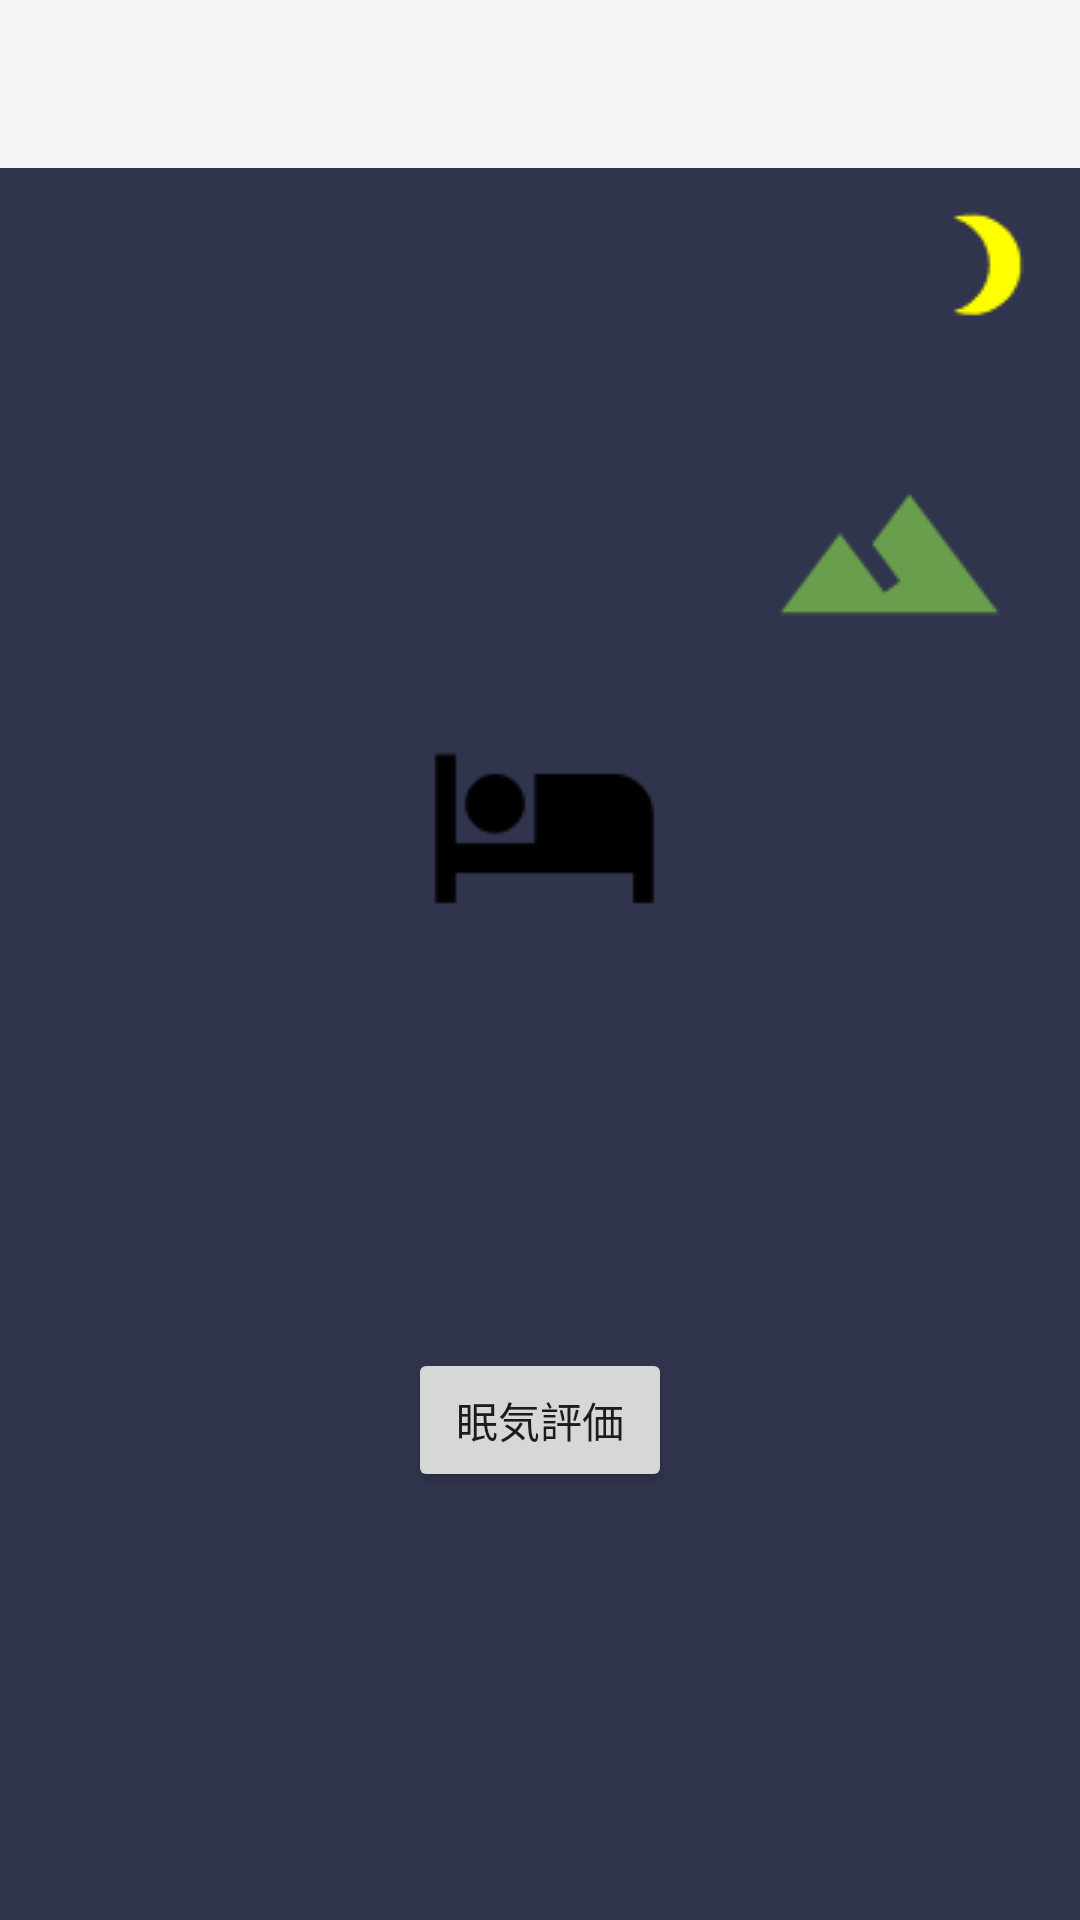

Where icons sit on this 1080 x 1920 app screen, as (x1, y1, x2, y2):
bed: (435, 753, 654, 903)
moon: (953, 213, 1023, 316)
mountain: (782, 494, 997, 614)
